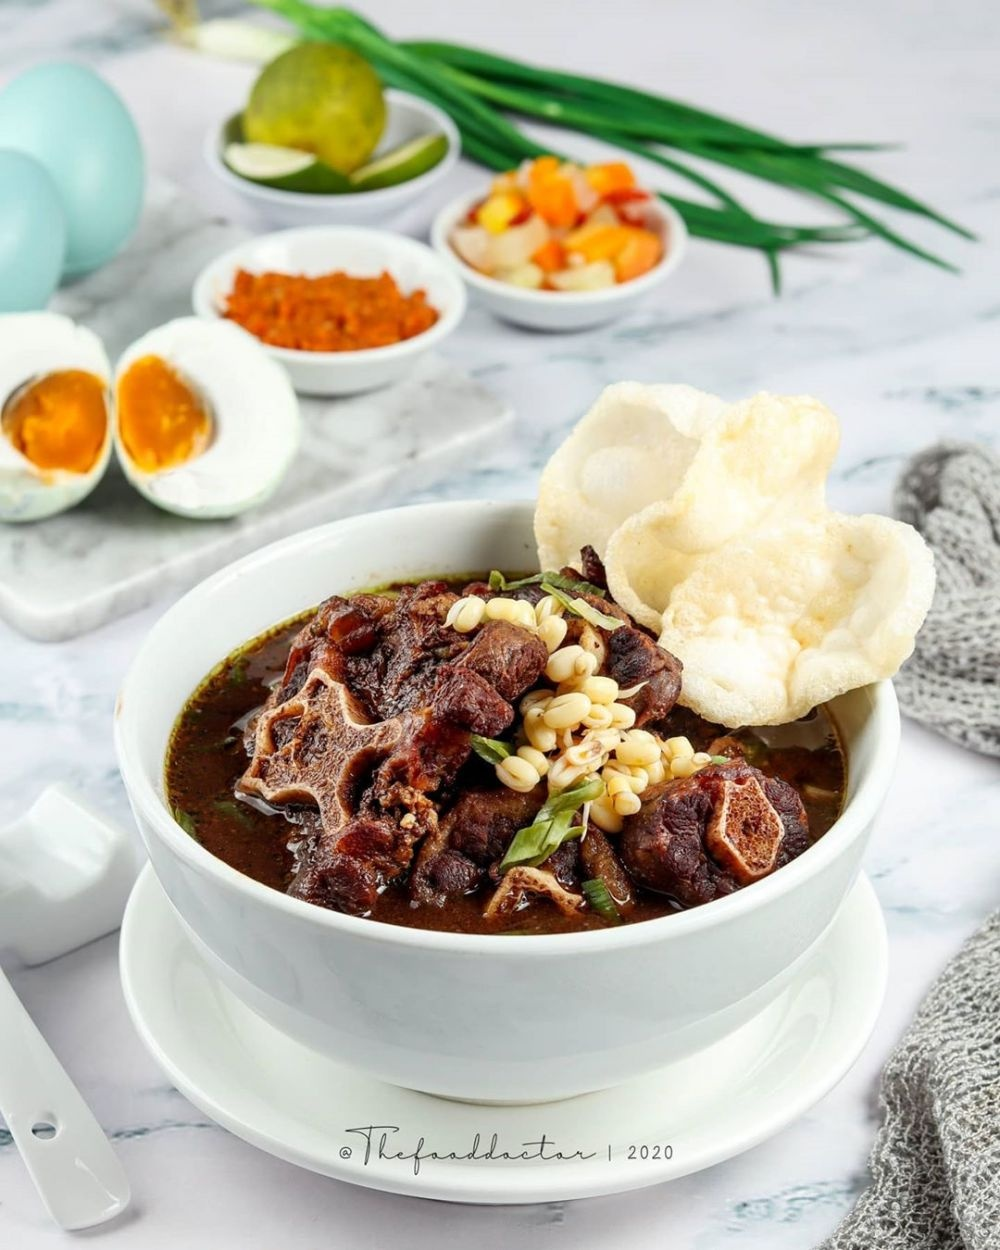rawon: (205, 535, 828, 894)
